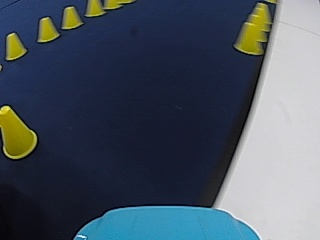cone: (232, 3, 271, 53), (0, 106, 37, 158), (36, 16, 59, 42), (5, 31, 26, 59), (61, 6, 82, 29), (85, 0, 103, 16)
